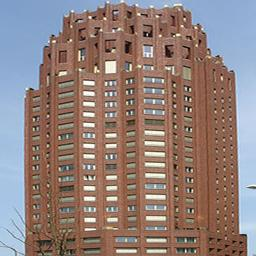building: (21, 1, 241, 256)
